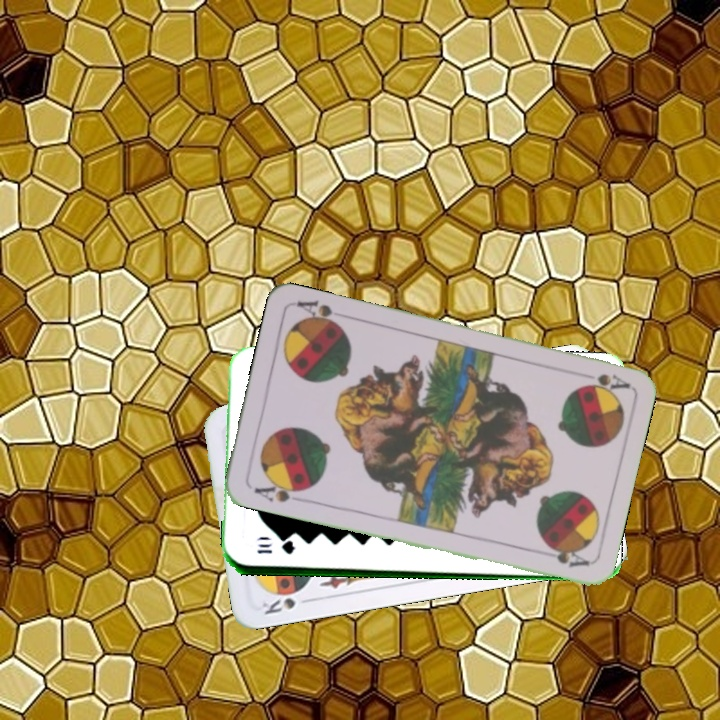G10: (253, 539, 297, 557)
SA: (250, 476, 308, 505), (573, 368, 632, 393)
SK: (258, 594, 315, 617)
